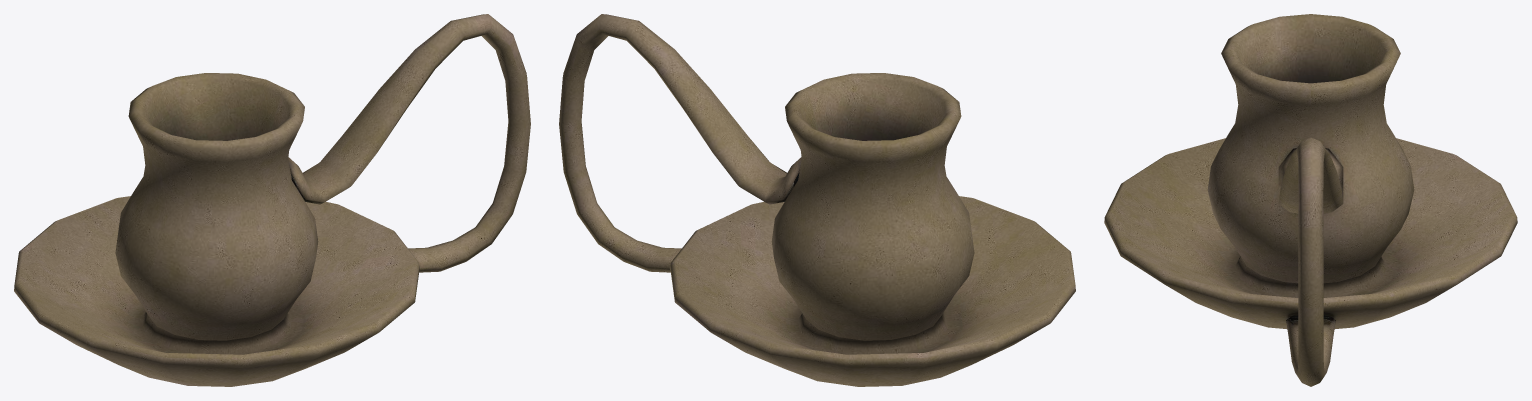
Rendered from lamp.glb.
3 views of the same model, side by side, from view 1: azimuth 30°, elevation 25°; view 2: azimuth 150°, elevation 25°; view 3: azimuth 270°, elevation 25° (orthographic).
Parts seen in each view (by area): view 1: trn_CandleCup; view 2: trn_CandleCup; view 3: trn_CandleCup.
Part boxes in pixels (left/top/right/bottom): trn_CandleCup: left=14, top=14, right=530, bottom=386; trn_CandleCup: left=559, top=14, right=1075, bottom=386; trn_CandleCup: left=1104, top=14, right=1517, bottom=386.
Size of the model in its own units: 0.3556 by 0.1808 by 0.2574.
1 material, 1 textured.
